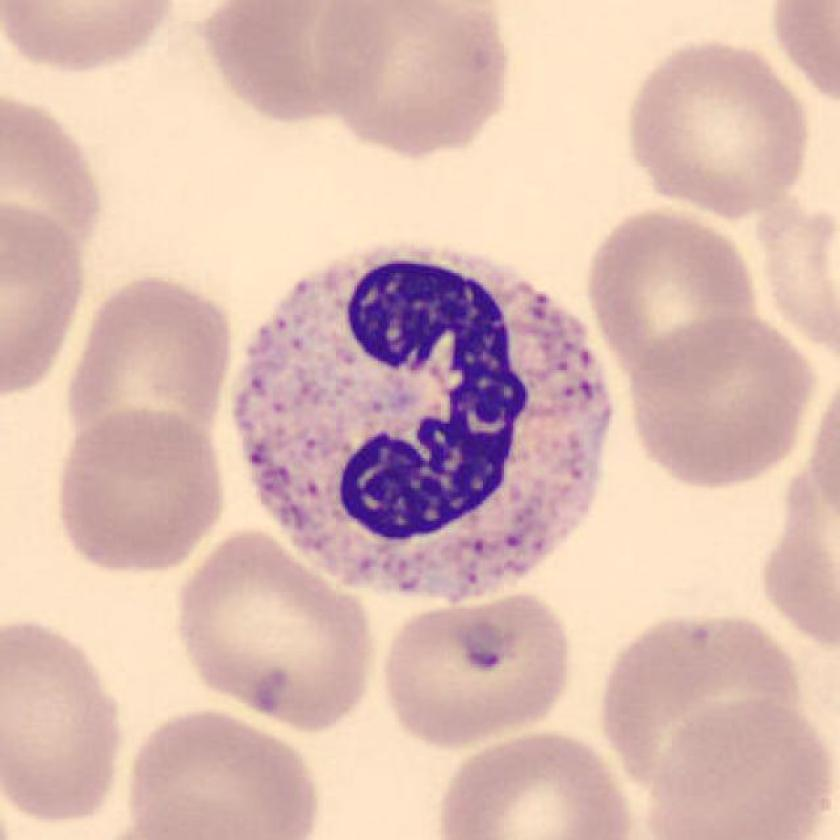neutrophil: (235, 245, 610, 601)
